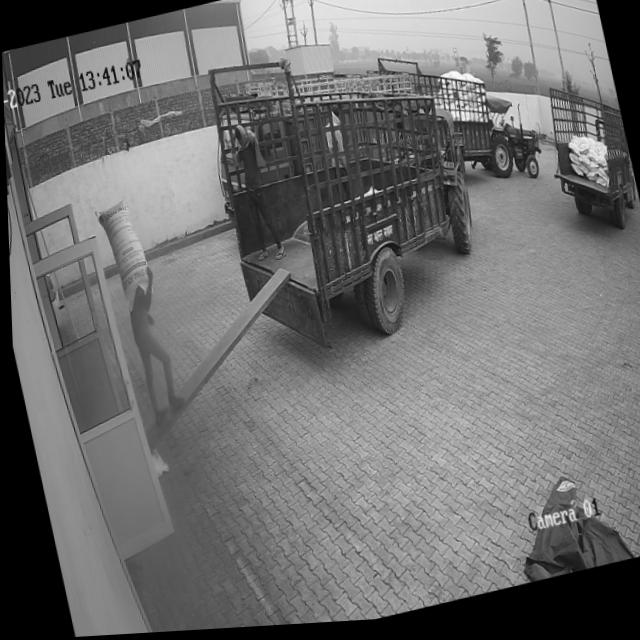sack: (91, 196, 153, 316)
